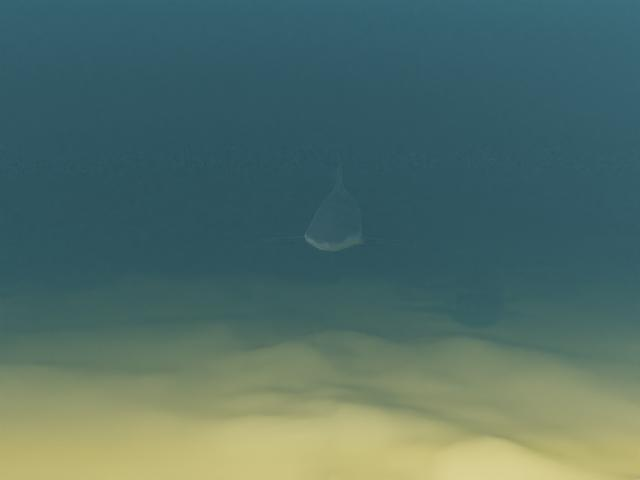Carribean Shark.001: (257, 150, 420, 251)
